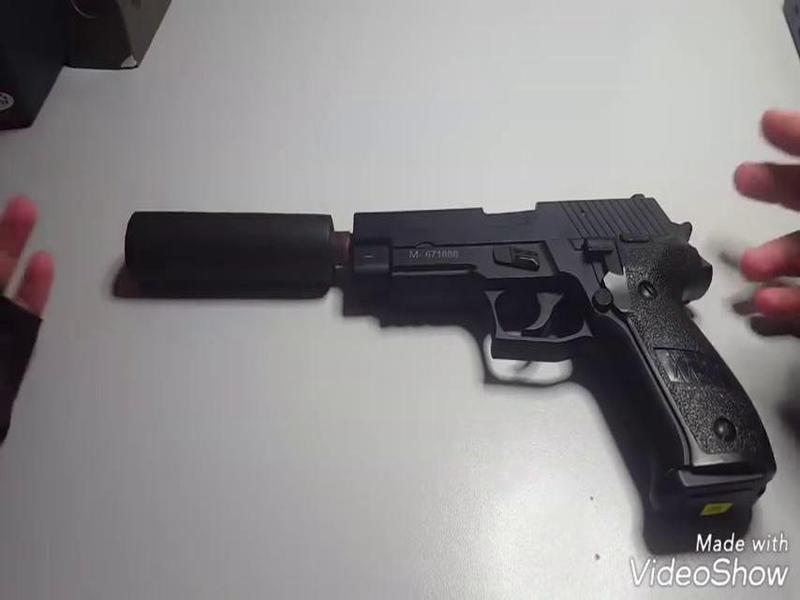Pistola: (75, 158, 780, 524)
